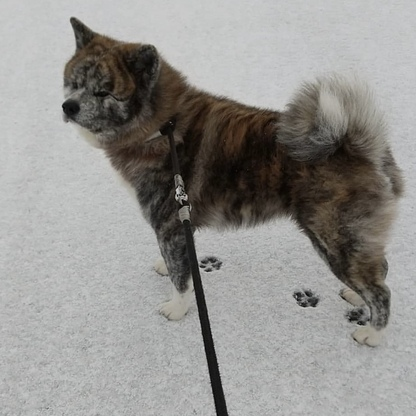akita: (53, 10, 409, 354)
